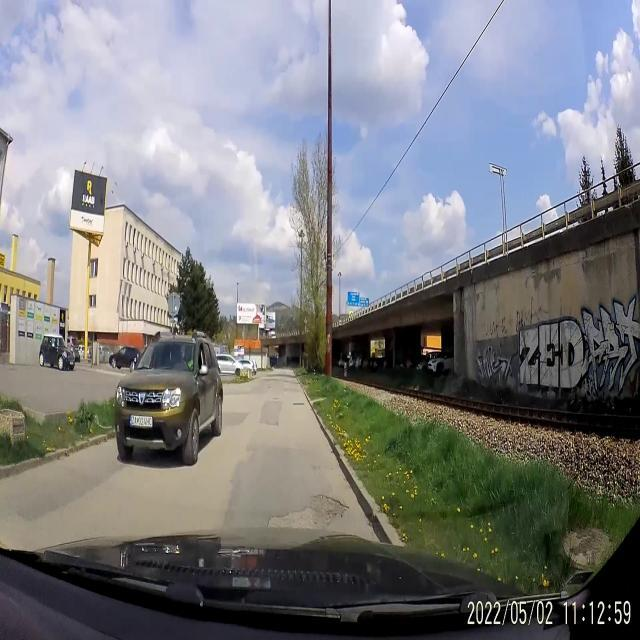Manhole: (290, 397, 306, 410)
Pothole: (266, 494, 352, 536)
